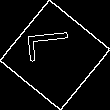L_E: (28, 37, 82, 73)
